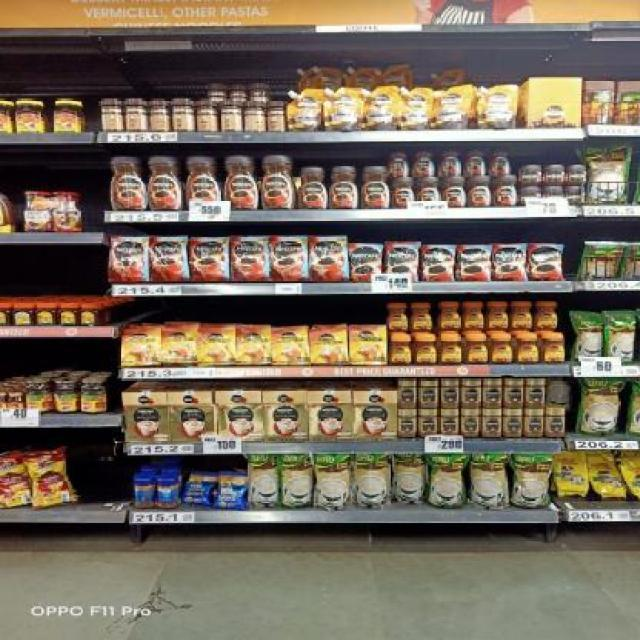Coffee: (108, 155, 148, 211), (183, 154, 222, 210), (222, 154, 260, 210), (260, 154, 298, 210), (148, 155, 185, 211), (108, 236, 149, 280), (150, 237, 188, 281), (191, 237, 228, 282), (309, 236, 346, 280), (232, 237, 269, 280), (271, 236, 307, 280), (309, 328, 348, 364), (360, 166, 392, 208), (329, 166, 360, 209), (197, 328, 234, 364), (272, 328, 309, 364), (121, 330, 158, 366), (350, 328, 386, 364), (160, 327, 196, 363), (385, 245, 418, 284), (298, 167, 329, 208), (347, 244, 381, 280), (236, 328, 270, 364), (456, 245, 490, 280), (420, 246, 454, 280), (529, 245, 562, 280), (492, 246, 524, 280), (470, 176, 493, 207), (516, 335, 540, 364), (541, 335, 565, 364), (464, 336, 488, 365), (496, 176, 518, 207), (487, 148, 512, 175), (393, 179, 416, 208), (437, 302, 460, 331), (410, 303, 433, 332), (413, 336, 436, 365), (439, 336, 462, 364), (510, 301, 532, 330), (462, 302, 484, 331), (534, 301, 556, 330), (486, 302, 508, 331), (386, 303, 408, 332), (490, 335, 512, 364), (445, 178, 466, 208), (389, 336, 410, 364), (481, 409, 501, 438), (413, 149, 434, 176), (466, 149, 487, 176), (419, 380, 439, 408), (441, 379, 460, 408), (505, 379, 524, 408), (483, 379, 502, 408), (419, 409, 438, 438), (461, 409, 480, 438), (504, 409, 523, 438), (398, 410, 417, 438), (441, 149, 462, 174), (462, 379, 480, 408), (398, 380, 416, 409), (526, 409, 544, 438), (389, 151, 409, 177), (547, 409, 566, 436), (419, 178, 442, 200), (519, 166, 544, 186), (440, 408, 458, 434), (527, 379, 544, 406), (545, 164, 566, 185), (568, 164, 587, 185), (542, 188, 564, 204), (521, 186, 540, 204), (568, 187, 588, 204)
